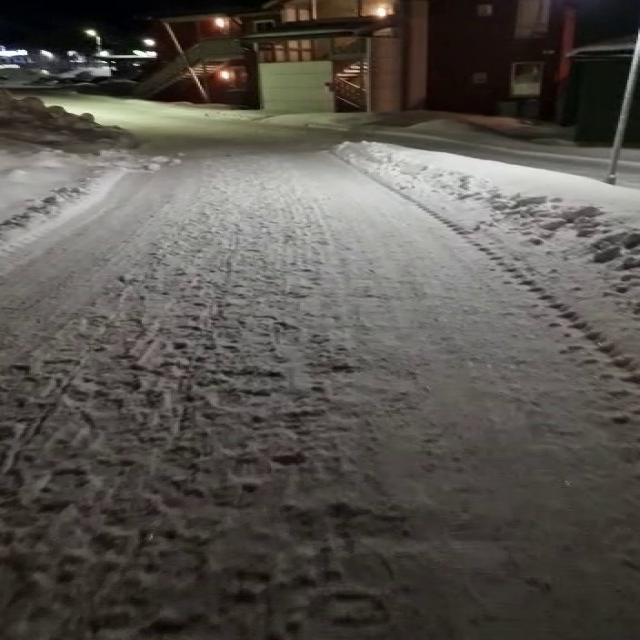path: (2, 99, 640, 640)
